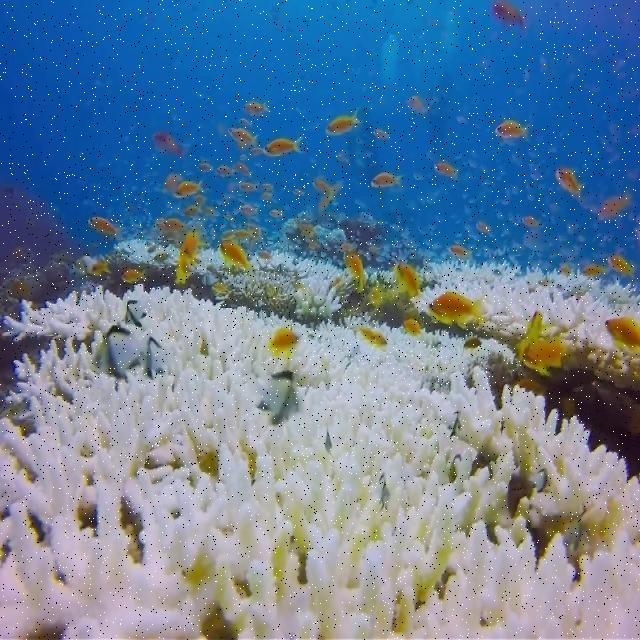fish: (92, 326, 152, 381), (257, 372, 302, 425), (428, 290, 484, 331), (523, 337, 569, 375), (606, 317, 639, 360), (328, 108, 364, 133), (269, 329, 303, 355), (394, 265, 420, 298), (224, 242, 252, 271), (496, 120, 531, 142), (266, 138, 303, 156)
